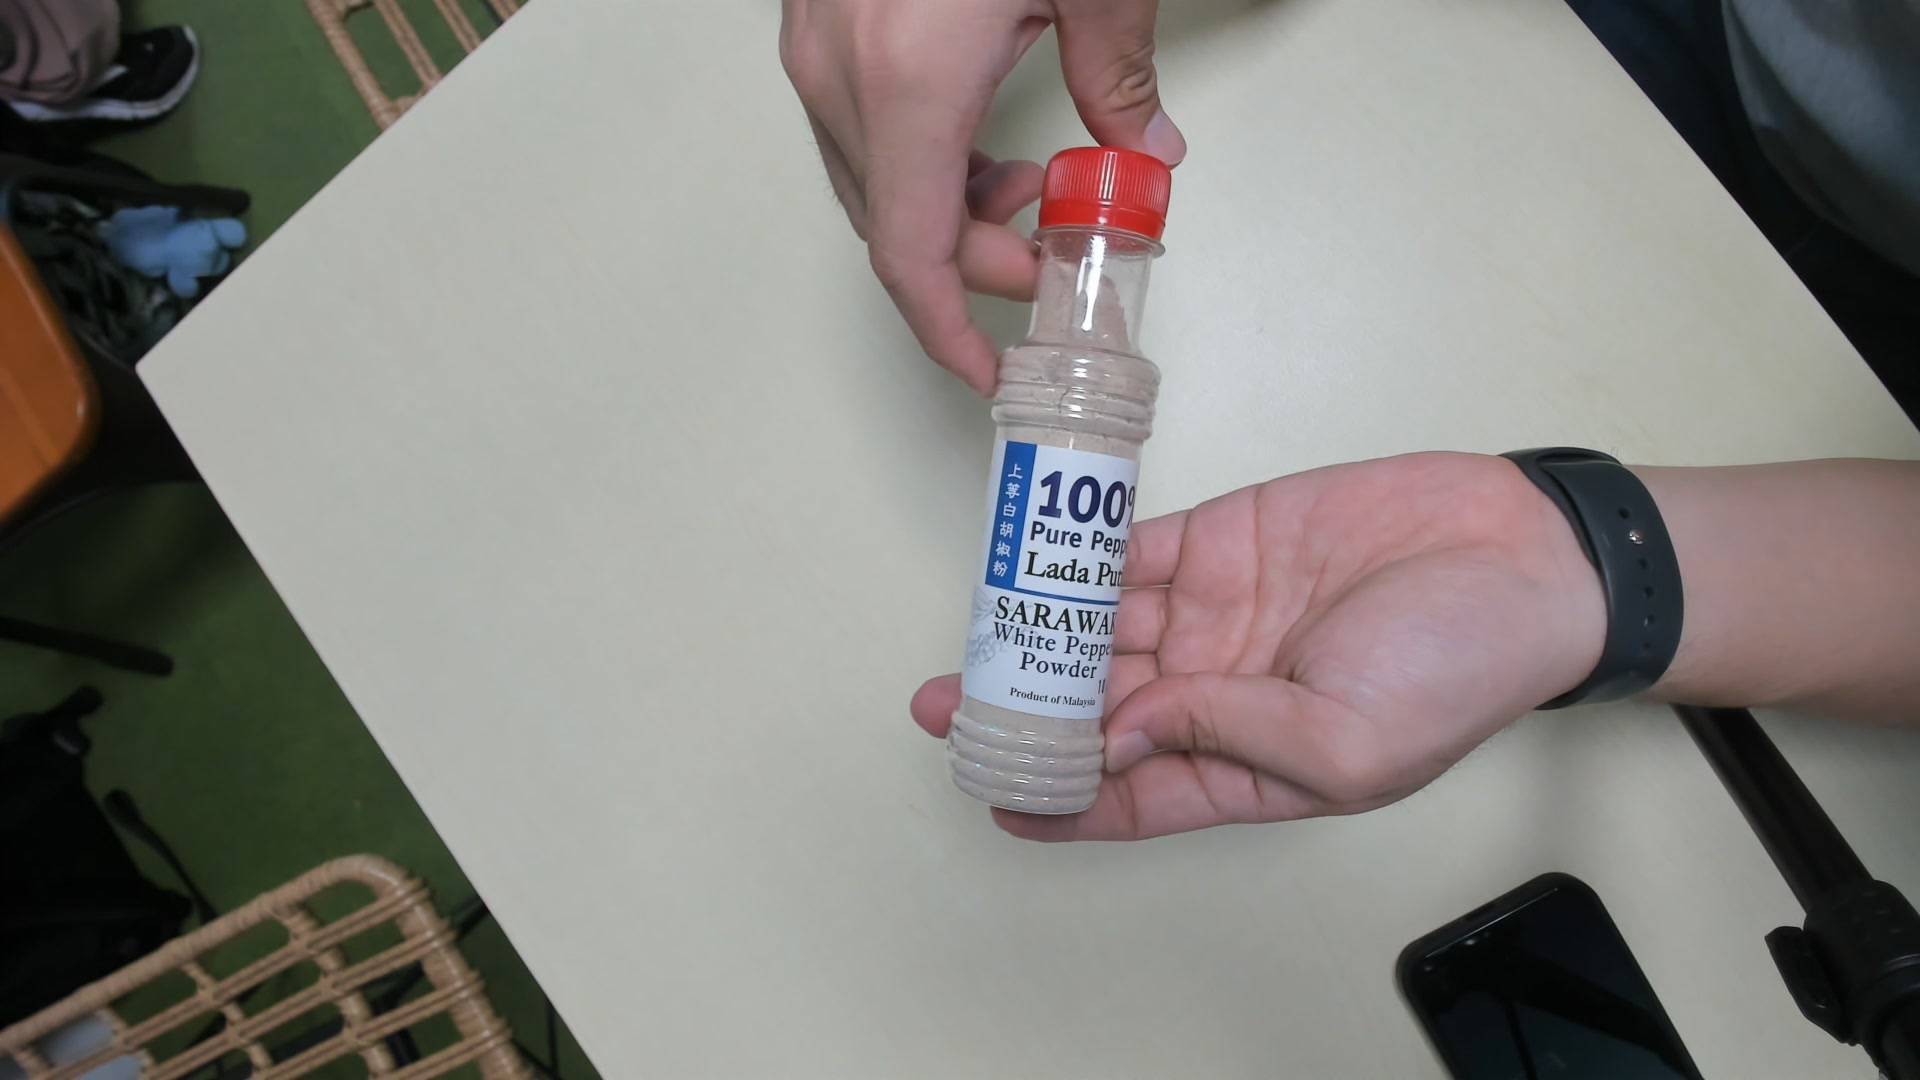HerbsSpicesPepper_0-99g_NonHalal_NonHealthy: (967, 150, 1168, 806)
